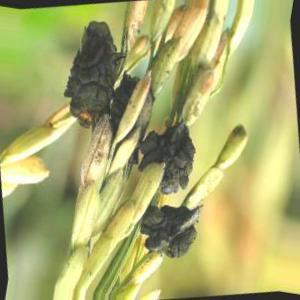Leaf_Scald: (74, 16, 109, 121), (152, 126, 197, 202), (139, 209, 191, 261)
